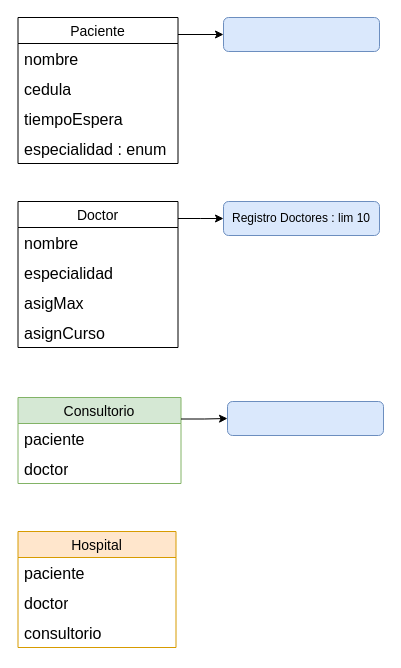
Some shapes in this 401 by 668 pixel diagram are drawn without their labels. The shapes that lost their labels are listed below. From the top down, each one's centre as x and y in pixels, then its label:
At (x=301, y=34): "Registro Pacientes : lim 15".
At (x=305, y=418): "Limite : 5 | Total : 30".
